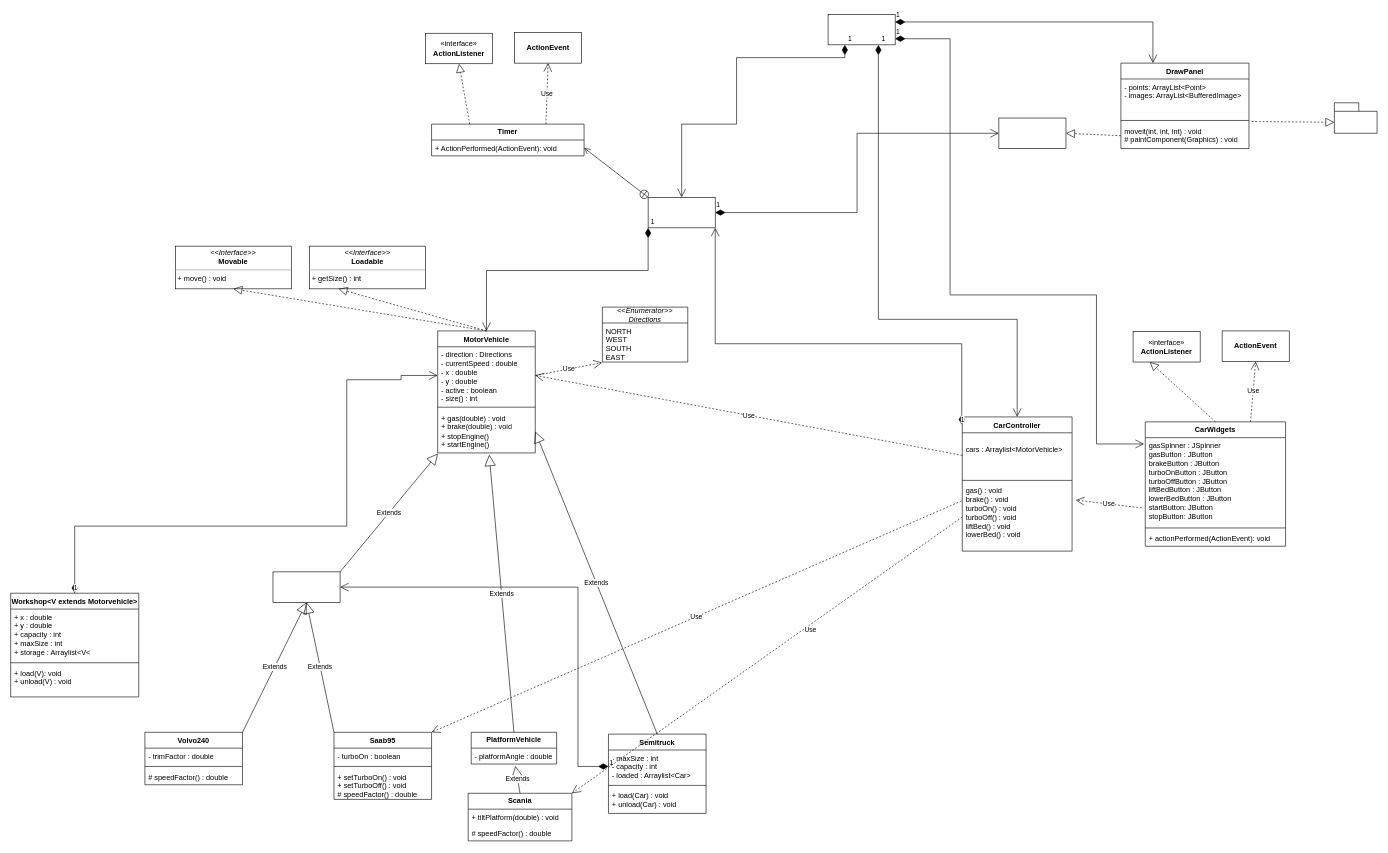
Image size: 1388x853. Some labels were removed from this diagram. The centre of each missing label's shape, as x and y in pixels:
"Application" belongs at point 861,29.
"Car" belongs at point 306,586.
"Images" belongs at point 1355,117.
"MotorVehicleModel" belongs at point 681,212.
"«interface» UpdateObserver" belongs at point 1032,133.
